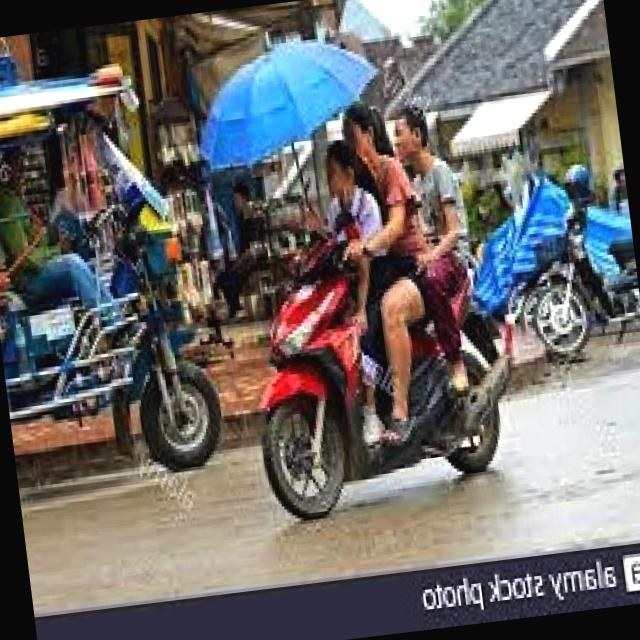motorcycle: (235, 208, 524, 530)
person: (321, 92, 447, 344), (382, 96, 481, 330), (292, 133, 399, 344)
rider_region: (228, 84, 528, 517)
